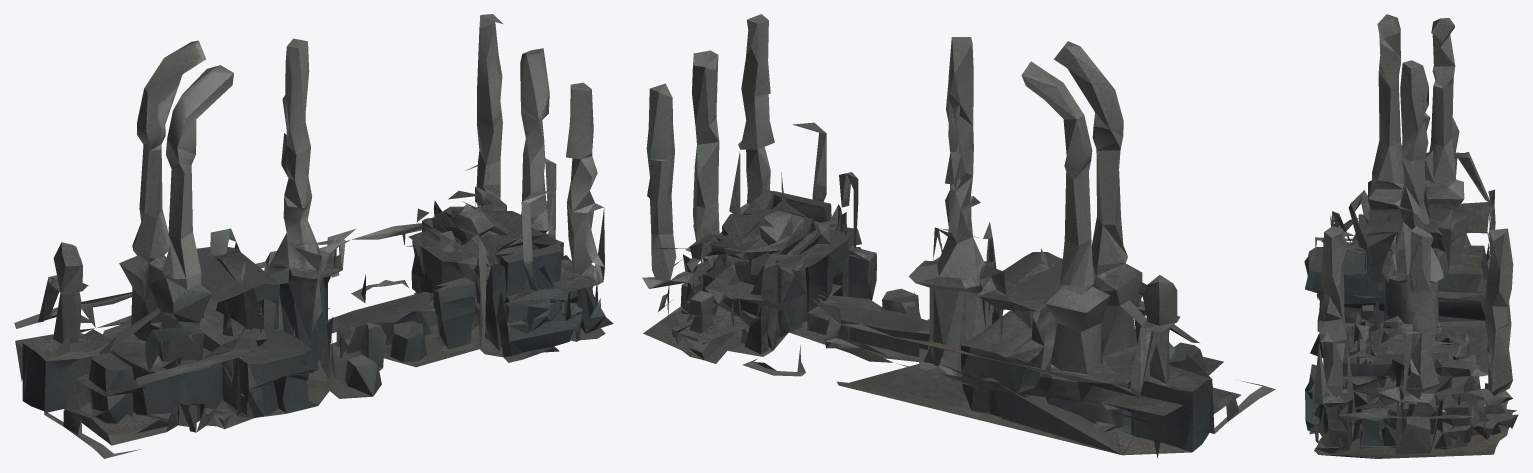
The model's file is refinery_silhouette.glb.
3 views of the same model, side by side, from view 1: azimuth 30°, elevation 25°; view 2: azimuth 150°, elevation 25°; view 3: azimuth 270°, elevation 25° (orthographic). The views are drawn at different scales.
Size of the model in its own units: 73.45 by 45 by 29.98.
Materials: 1 (1 with a texture image).
